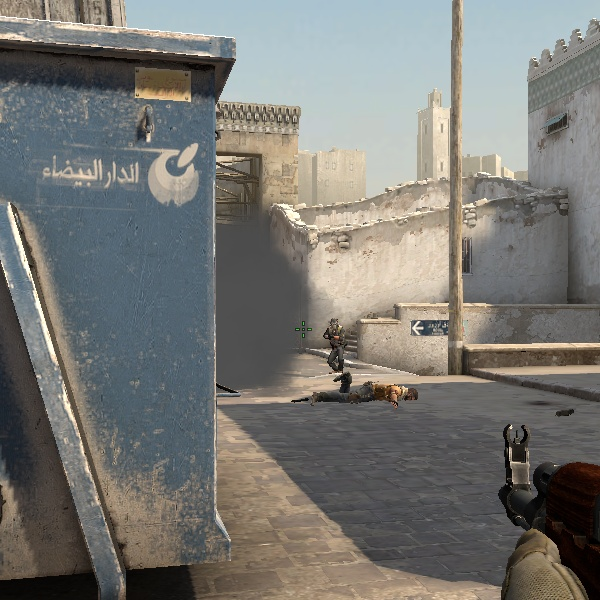t_body: (317, 316, 353, 378)
t_head: (327, 317, 342, 333)
